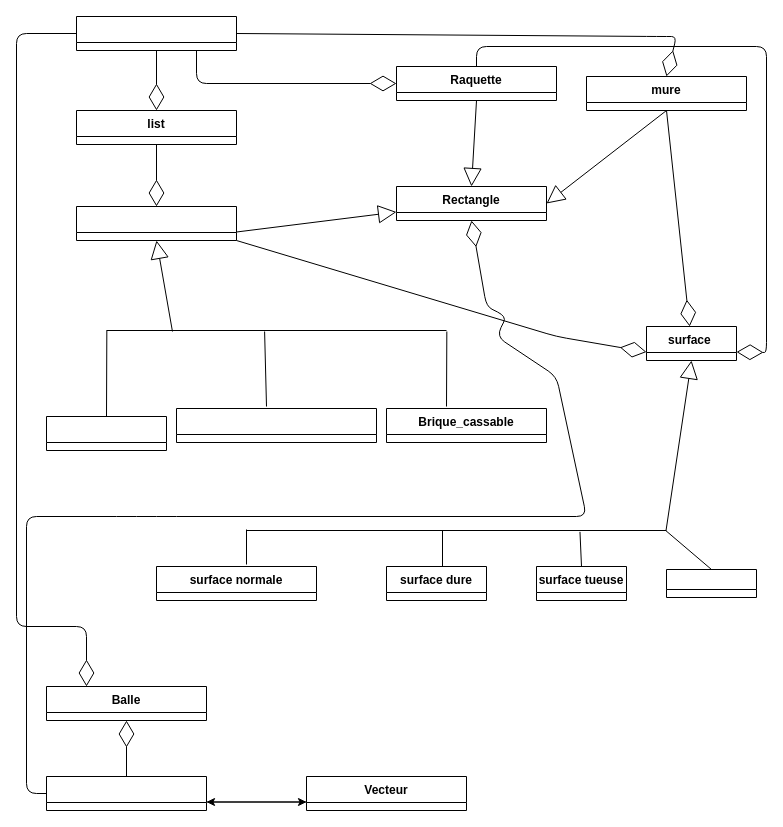
Some shapes in this 783 by 827 pixel diagram are drawn without their labels. The centre of each missing label's shape, as x and y in pixels:
Brique: pixel 156 223
Brique Cassable Apres Plusieur Fois: pixel 276 425
Brique_incassable: pixel 106 433
Point: pixel 126 793
surface molle: pixel 711 583
terrain: pixel 156 33
